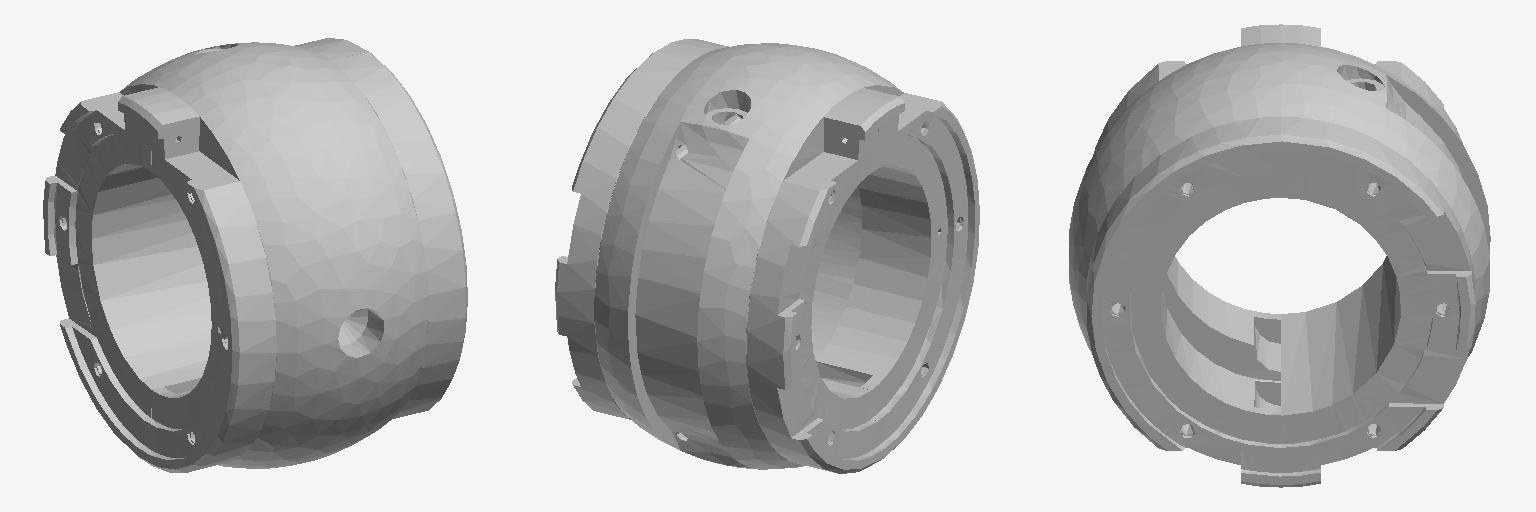
Rendered from bearing liner.obj.
3 views of the same model, side by side, from view 1: azimuth 30°, elevation 25°; view 2: azimuth 150°, elevation 25°; view 3: azimuth 270°, elevation 25° (orthographic).
Visible parts, largest first — view 1: imagetostl_mesh0; view 2: imagetostl_mesh0; view 3: imagetostl_mesh0.
Part boxes in pixels (x1,y1,x2,y2): imagetostl_mesh0: (43, 38, 467, 472); imagetostl_mesh0: (555, 39, 979, 473); imagetostl_mesh0: (1069, 24, 1490, 487).
Bounding box in the file's own units: 102 × 160 × 158.